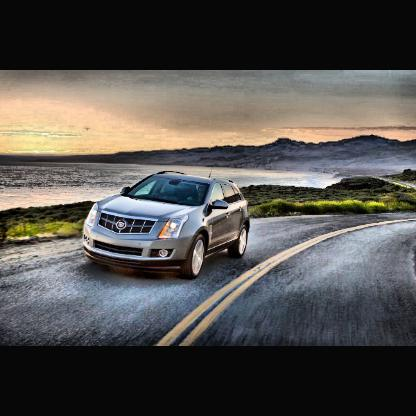Cadillac SRX SUV 2012: (83, 167, 253, 280)
